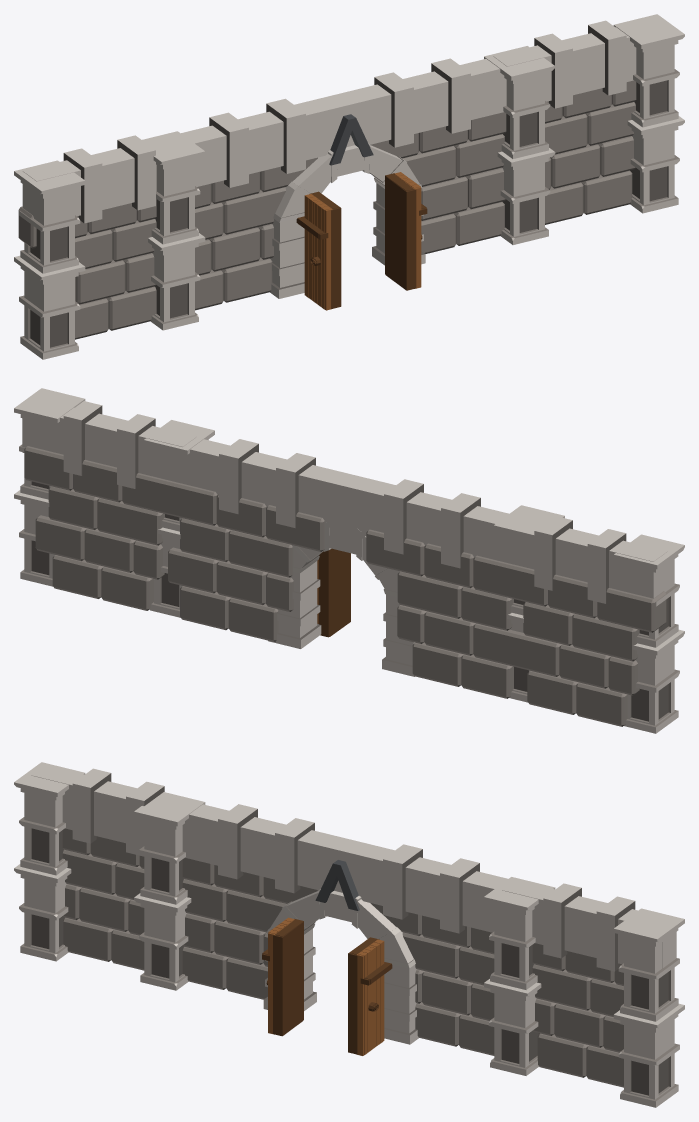
The model's file is OPENGATE (2).fbx.
3 renders of one model, top to bottom at view 1: azimuth 30°, elevation 25°; view 2: azimuth 150°, elevation 25°; view 3: azimuth 330°, elevation 25°, orthographic.
Parts seen in each view (by area): view 1: Cube.079; view 2: Cube.079; view 3: Cube.079.
Part boxes in pixels (box(x1,y1,x2,y2)): Cube.079: box(14, 14, 684, 359); Cube.079: box(14, 388, 684, 733); Cube.079: box(14, 762, 684, 1107).
Bounding box in the file's own units: 13135 × 3493 × 1559.
